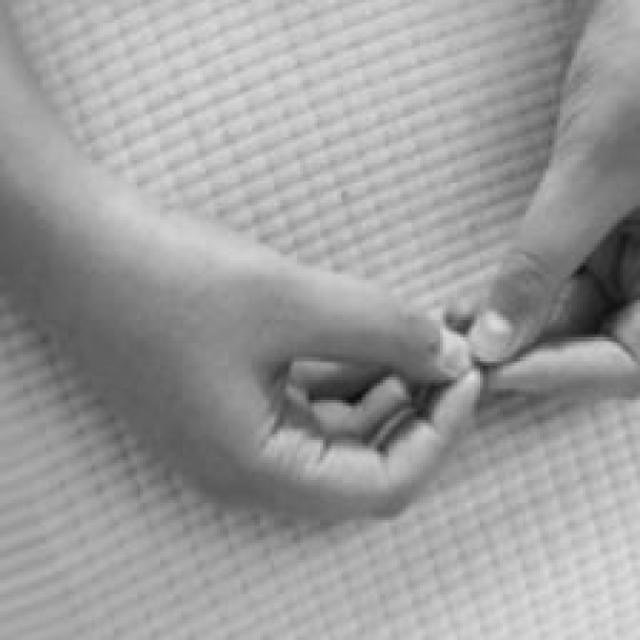B: (80, 118, 640, 524)
